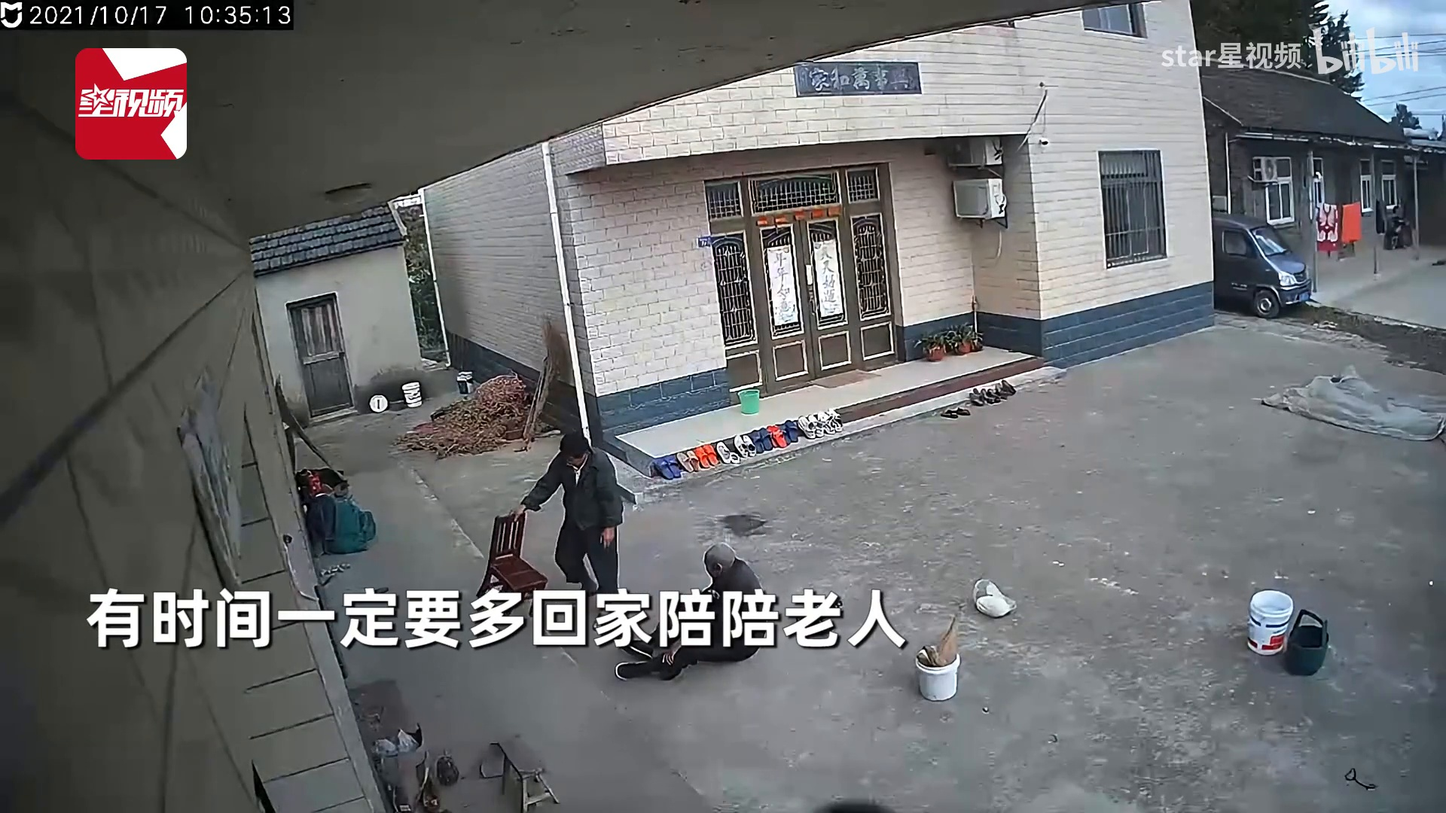half_up: (602, 546, 766, 678)
stand: (517, 430, 626, 626)
